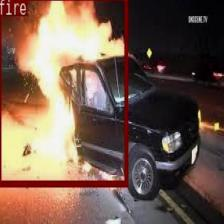fire: (0, 0, 127, 185)
